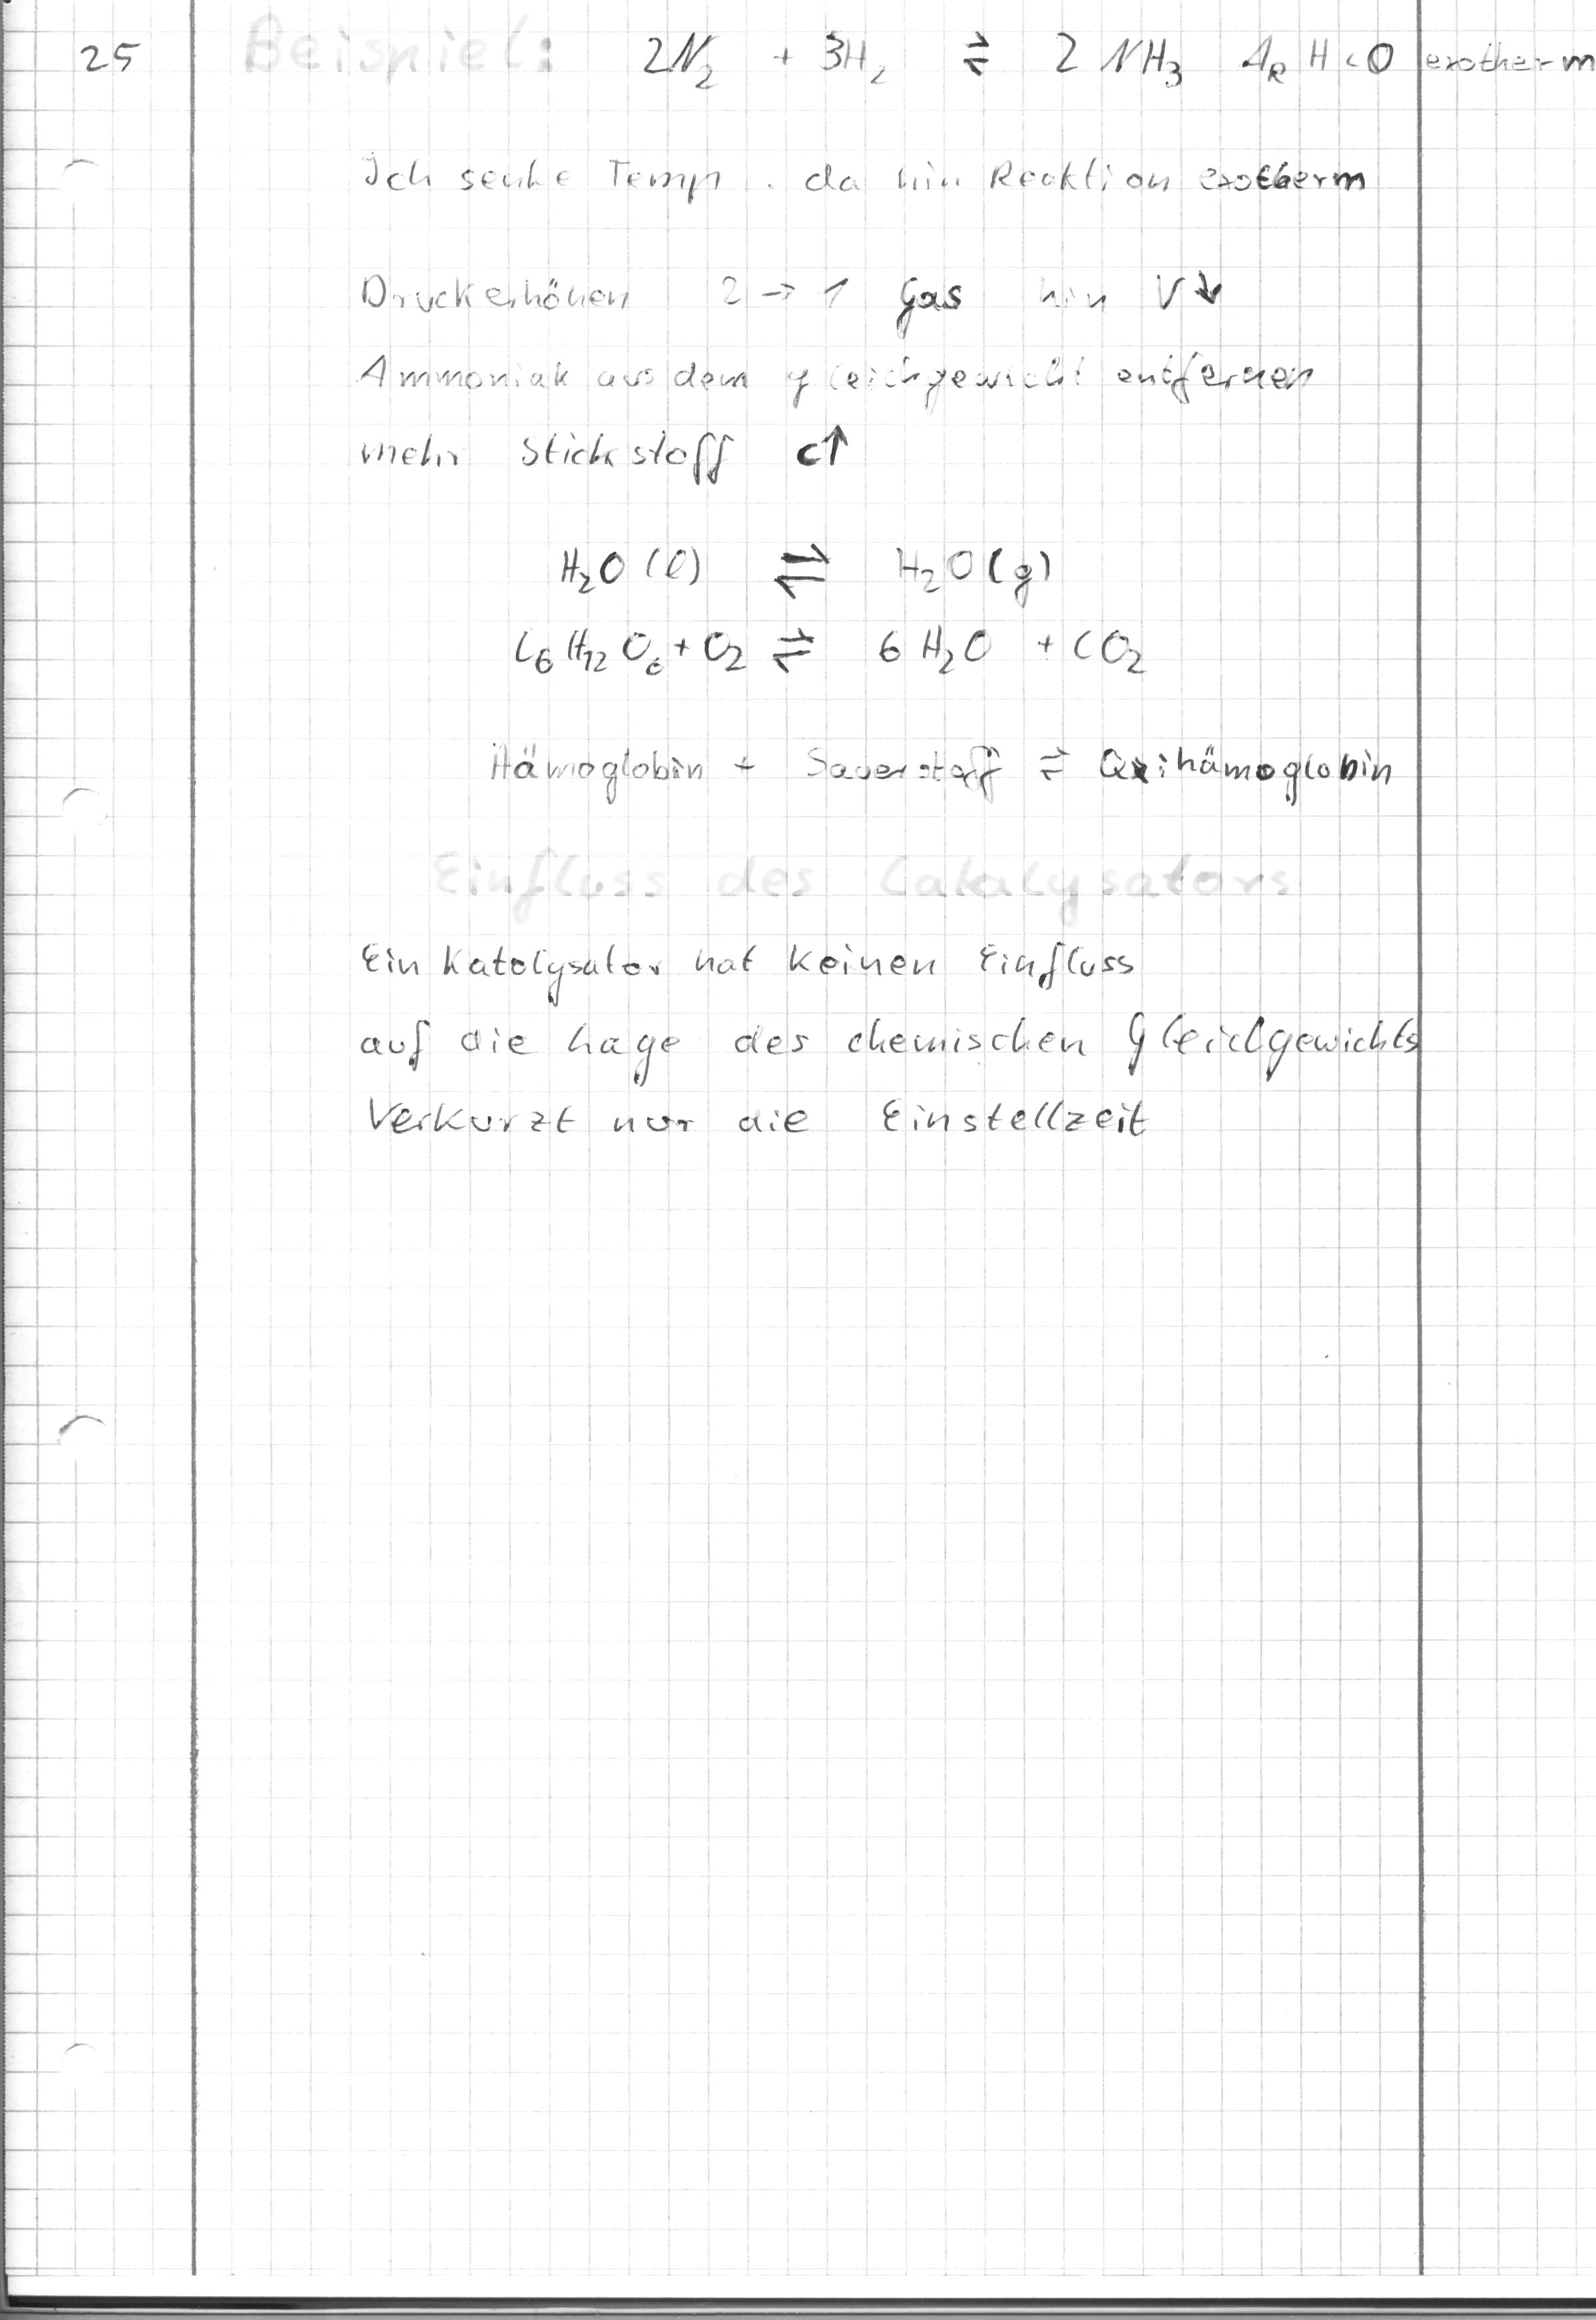word: (351, 929, 1440, 1162), (340, 344, 1323, 490), (501, 540, 1161, 709), (333, 241, 1248, 362), (486, 717, 1402, 820), (619, 16, 1596, 111), (346, 139, 1378, 221)
